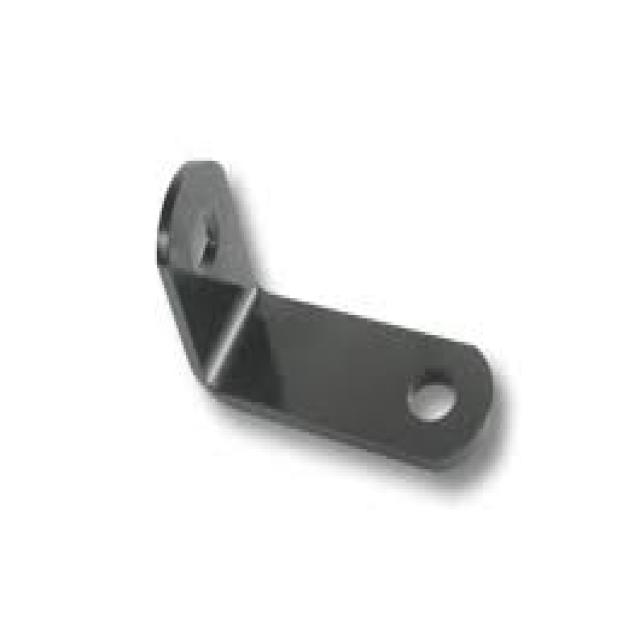holes: (403, 369, 456, 422)
